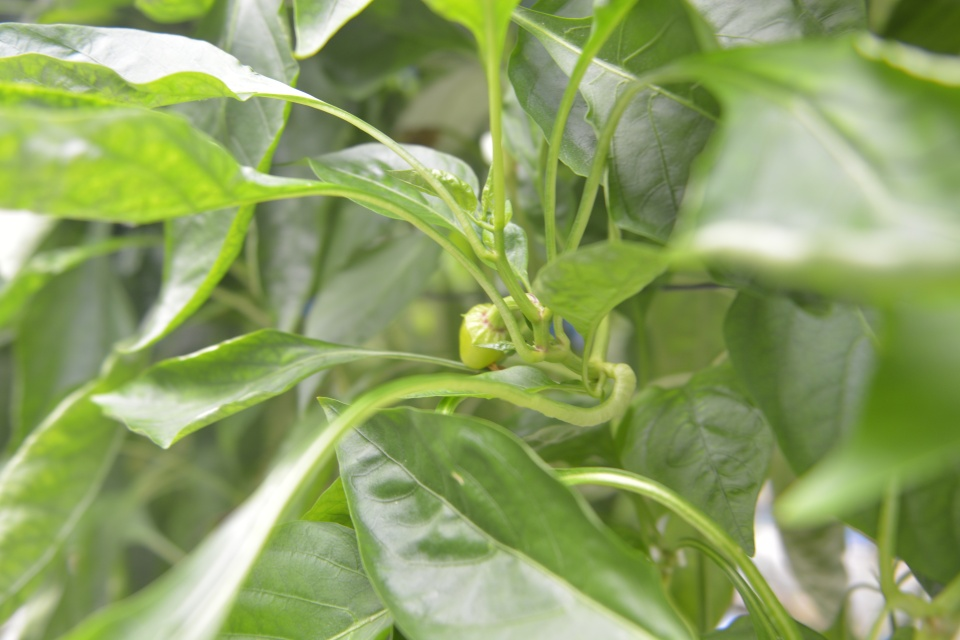immature: (454, 298, 516, 375)
